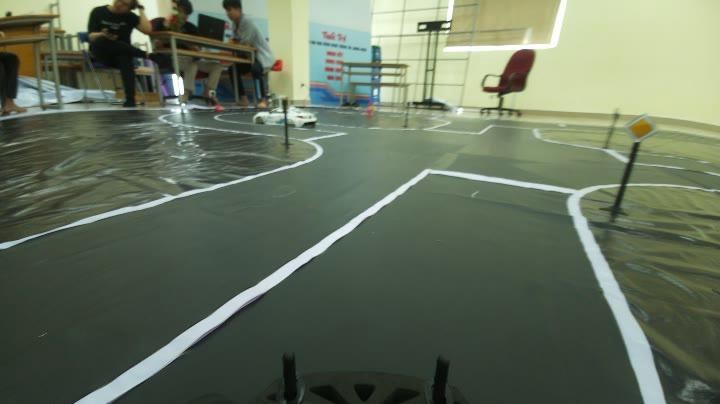priority: (620, 105, 658, 144)
